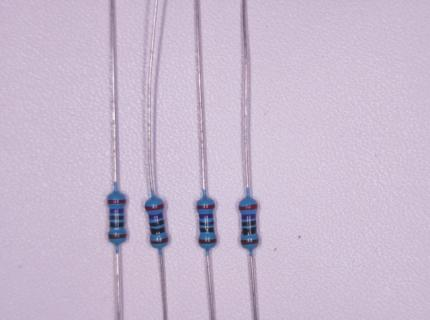Black band: (242, 226, 257, 235), (151, 226, 165, 234), (150, 220, 165, 227), (242, 220, 256, 226), (200, 220, 214, 226), (110, 222, 124, 228), (200, 227, 215, 232), (110, 215, 125, 219)
Brown band: (150, 236, 168, 245), (241, 238, 259, 245), (108, 233, 127, 239), (198, 238, 217, 244)
Red band: (239, 203, 258, 211), (145, 203, 164, 210), (197, 204, 216, 209), (107, 199, 126, 204)
Violet band: (149, 212, 163, 219), (242, 213, 256, 220), (199, 213, 213, 219), (109, 208, 124, 213)
